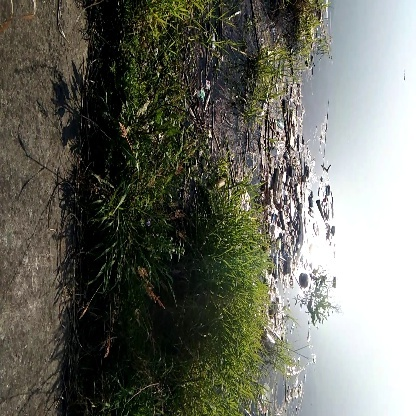grass: (201, 215, 273, 355)
